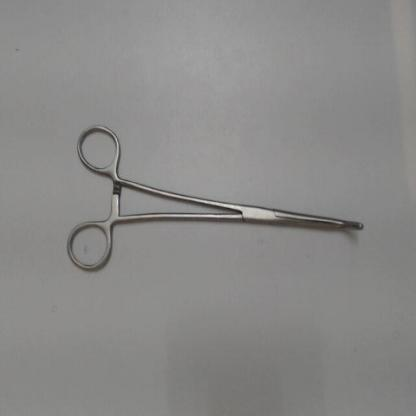Lahey Forceps: (58, 111, 370, 282)
